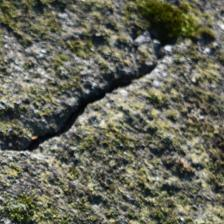Crack: (4, 28, 159, 128)
